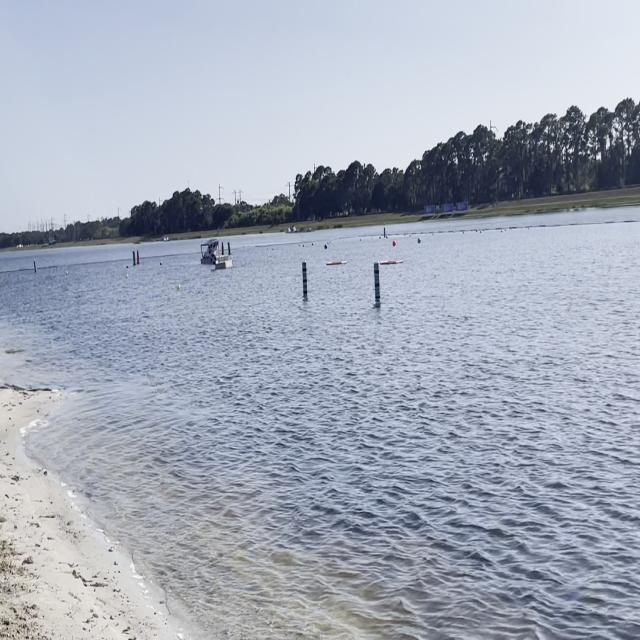buoy: (176, 284, 182, 291), (392, 240, 396, 247), (324, 243, 328, 250), (417, 238, 421, 244), (125, 274, 129, 280), (66, 270, 68, 276), (125, 265, 128, 269), (160, 261, 162, 265)
